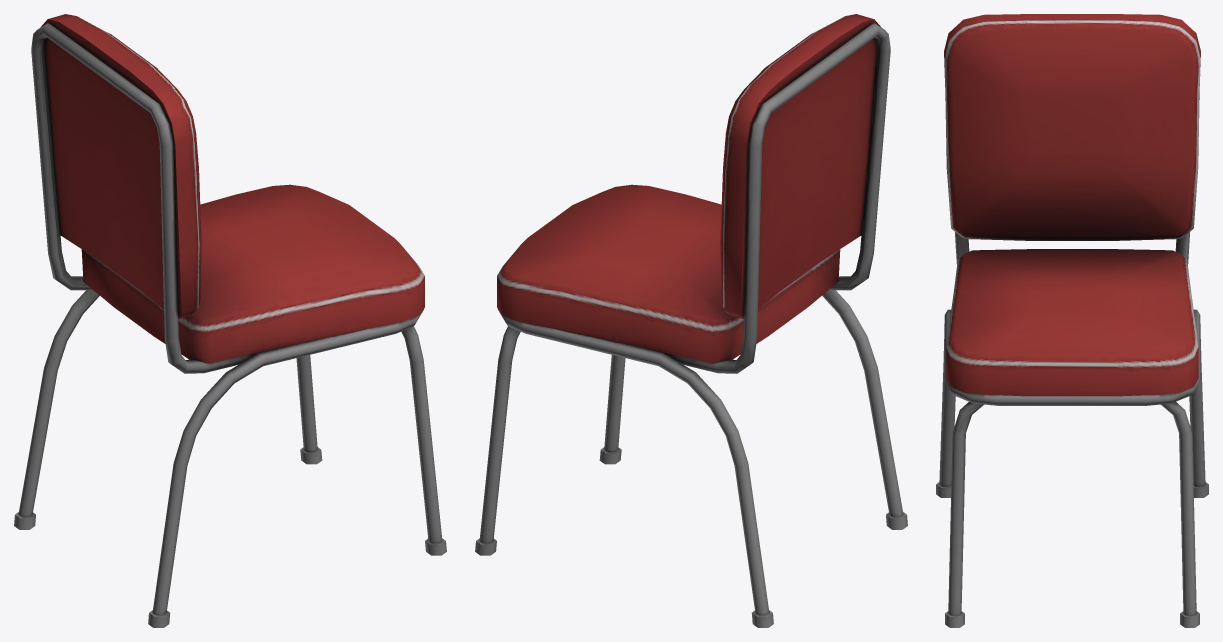
Rendered from chair.glb.
3 views of the same model, side by side, from view 1: azimuth 30°, elevation 25°; view 2: azimuth 150°, elevation 25°; view 3: azimuth 270°, elevation 25° (orthographic). The views are drawn at different scales.
Parts seen in each view (by area): view 1: chair; view 2: chair; view 3: chair.
Part boxes in pixels (<box>): chair: <box>14,14,446,627</box>; chair: <box>475,14,907,627</box>; chair: <box>936,14,1208,627</box>.
Bounding box in the file's own units: 0.5582 × 0.9288 × 0.469.
Materials: 2 (2 with a texture image).
